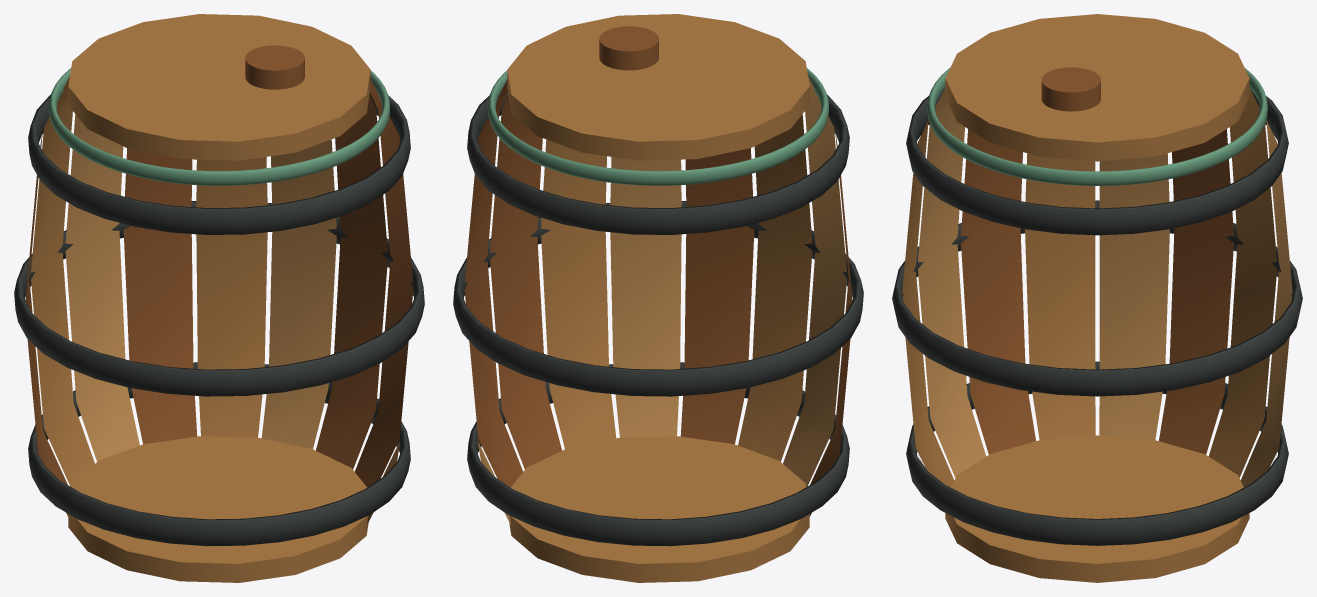
The model's file is repair.glb.
The picture shows the model from 3 angles, left to right: view 1: azimuth 30°, elevation 25°; view 2: azimuth 150°, elevation 25°; view 3: azimuth 270°, elevation 25°; orthographic projection.
Visible parts, largest first — view 1: _MeshInstance3D_122, _MeshInstance3D_129, _MeshInstance3D_128, _MeshInstance3D_124, _MeshInstance3D_123, _MeshInstance3D_126, _MeshInstance3D_127, _MeshInstance3D_125, _MeshInstance3D_131, _MeshInstance3D_130; view 2: _MeshInstance3D_122, _MeshInstance3D_129, _MeshInstance3D_128, _MeshInstance3D_123, _MeshInstance3D_124, _MeshInstance3D_126, _MeshInstance3D_127, _MeshInstance3D_125, _MeshInstance3D_131, _MeshInstance3D_130; view 3: _MeshInstance3D_129, _MeshInstance3D_123, _MeshInstance3D_124, _MeshInstance3D_128, _MeshInstance3D_122, _MeshInstance3D_126, _MeshInstance3D_127, _MeshInstance3D_125, _MeshInstance3D_131, _MeshInstance3D_130.
Part boxes in pixels (box(x1,y1,x2,y2)): _MeshInstance3D_122: box(25, 80, 413, 516); _MeshInstance3D_129: box(68, 14, 370, 160); _MeshInstance3D_128: box(68, 436, 368, 582); _MeshInstance3D_124: box(65, 114, 336, 461); _MeshInstance3D_123: box(31, 76, 400, 524); _MeshInstance3D_126: box(14, 201, 424, 396); _MeshInstance3D_127: box(28, 93, 410, 234); _MeshInstance3D_125: box(28, 362, 410, 546); _MeshInstance3D_131: box(48, 68, 390, 185); _MeshInstance3D_130: box(245, 45, 304, 89); _MeshInstance3D_122: box(464, 80, 852, 516); _MeshInstance3D_129: box(507, 14, 809, 160); _MeshInstance3D_128: box(509, 436, 809, 582); _MeshInstance3D_123: box(541, 114, 812, 461); _MeshInstance3D_124: box(477, 76, 846, 524); _MeshInstance3D_126: box(453, 201, 863, 396); _MeshInstance3D_127: box(467, 93, 849, 234); _MeshInstance3D_125: box(467, 362, 849, 546); _MeshInstance3D_131: box(487, 68, 829, 185); _MeshInstance3D_130: box(599, 26, 658, 70); _MeshInstance3D_129: box(945, 14, 1249, 161); _MeshInstance3D_123: box(902, 88, 1276, 487); _MeshInstance3D_124: box(918, 88, 1292, 487); _MeshInstance3D_128: box(945, 435, 1249, 582); _MeshInstance3D_122: box(918, 129, 1276, 526); _MeshInstance3D_126: box(892, 200, 1302, 396); _MeshInstance3D_127: box(906, 89, 1288, 235); _MeshInstance3D_125: box(906, 361, 1288, 545); _MeshInstance3D_131: box(927, 68, 1267, 185); _MeshInstance3D_130: box(1041, 67, 1100, 111).
Bounding box in the file's own units: 2.35 × 2.9 × 2.35.
